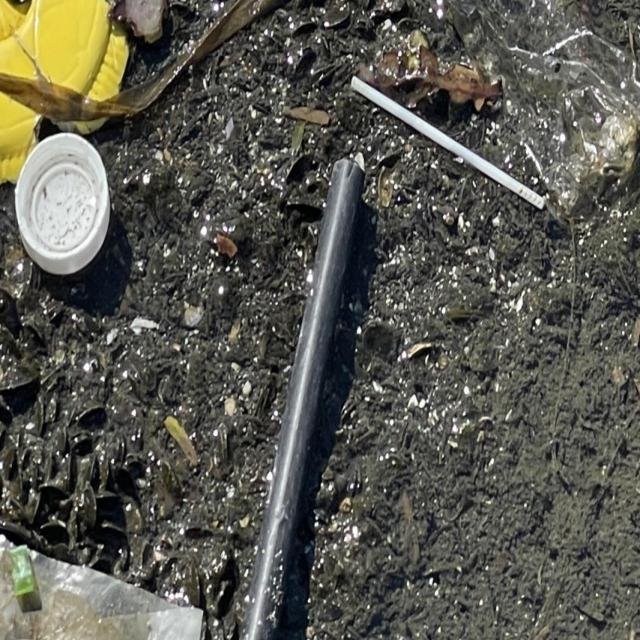plastic_waste: (350, 75, 547, 213), (14, 131, 113, 276)
